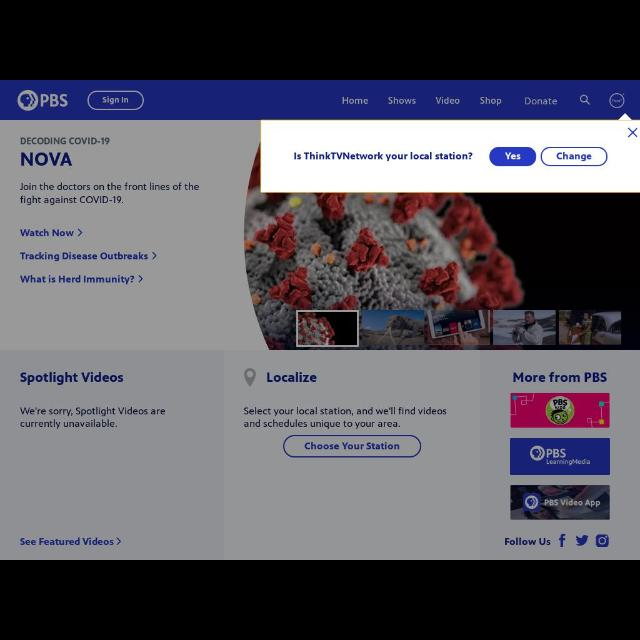icon: (610, 94, 624, 108), (245, 368, 255, 386), (578, 94, 592, 106), (626, 128, 638, 138), (152, 251, 158, 261), (137, 274, 143, 284), (116, 536, 120, 546)
image: (512, 438, 610, 474), (511, 393, 611, 427), (510, 486, 608, 520), (19, 90, 69, 112), (576, 534, 588, 548), (597, 534, 609, 548), (558, 532, 566, 548)
text: (244, 405, 448, 431), (20, 184, 198, 204), (20, 406, 166, 428), (293, 151, 473, 161), (22, 371, 126, 385), (21, 274, 135, 286), (514, 373, 608, 385), (20, 252, 148, 260), (306, 442, 400, 452), (20, 137, 110, 147), (20, 538, 114, 546), (22, 152, 72, 166), (21, 227, 74, 240), (266, 371, 318, 383), (504, 538, 550, 548), (556, 152, 594, 162), (524, 97, 556, 107), (480, 95, 502, 107), (388, 98, 416, 106), (102, 96, 130, 104), (342, 96, 368, 104), (507, 150, 521, 162), (436, 98, 460, 104)
textbutton: (283, 434, 421, 458), (542, 147, 606, 165), (87, 92, 143, 110), (490, 146, 536, 166)
toolbar: (1, 81, 639, 119)
